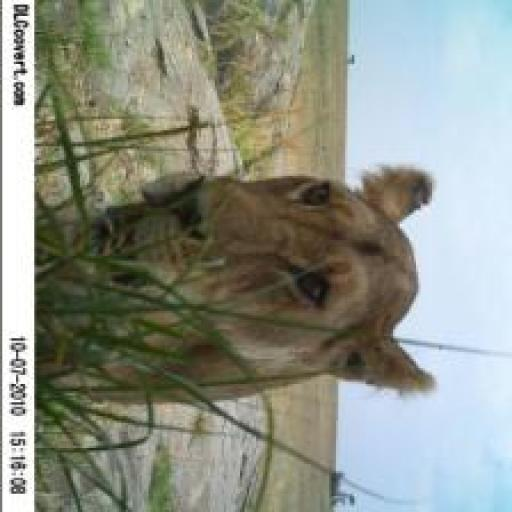lion: (32, 146, 473, 409)
